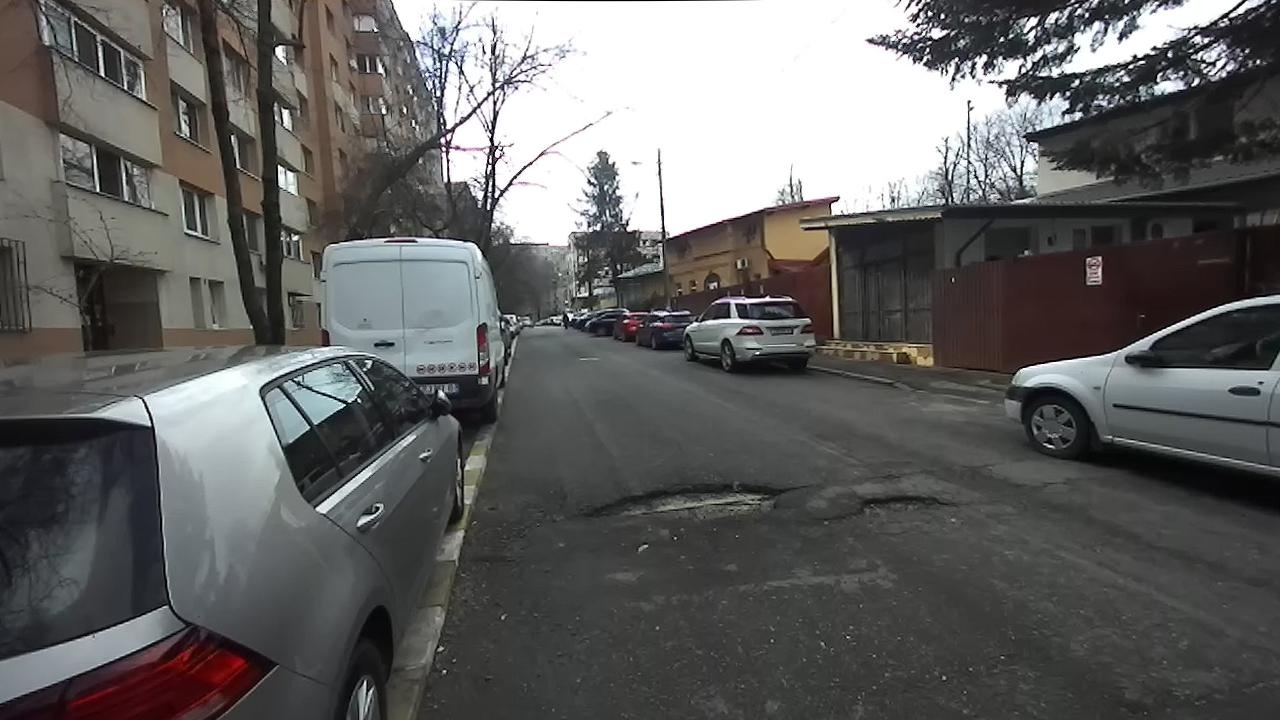pothole: (568, 477, 813, 536), (817, 491, 956, 529)
